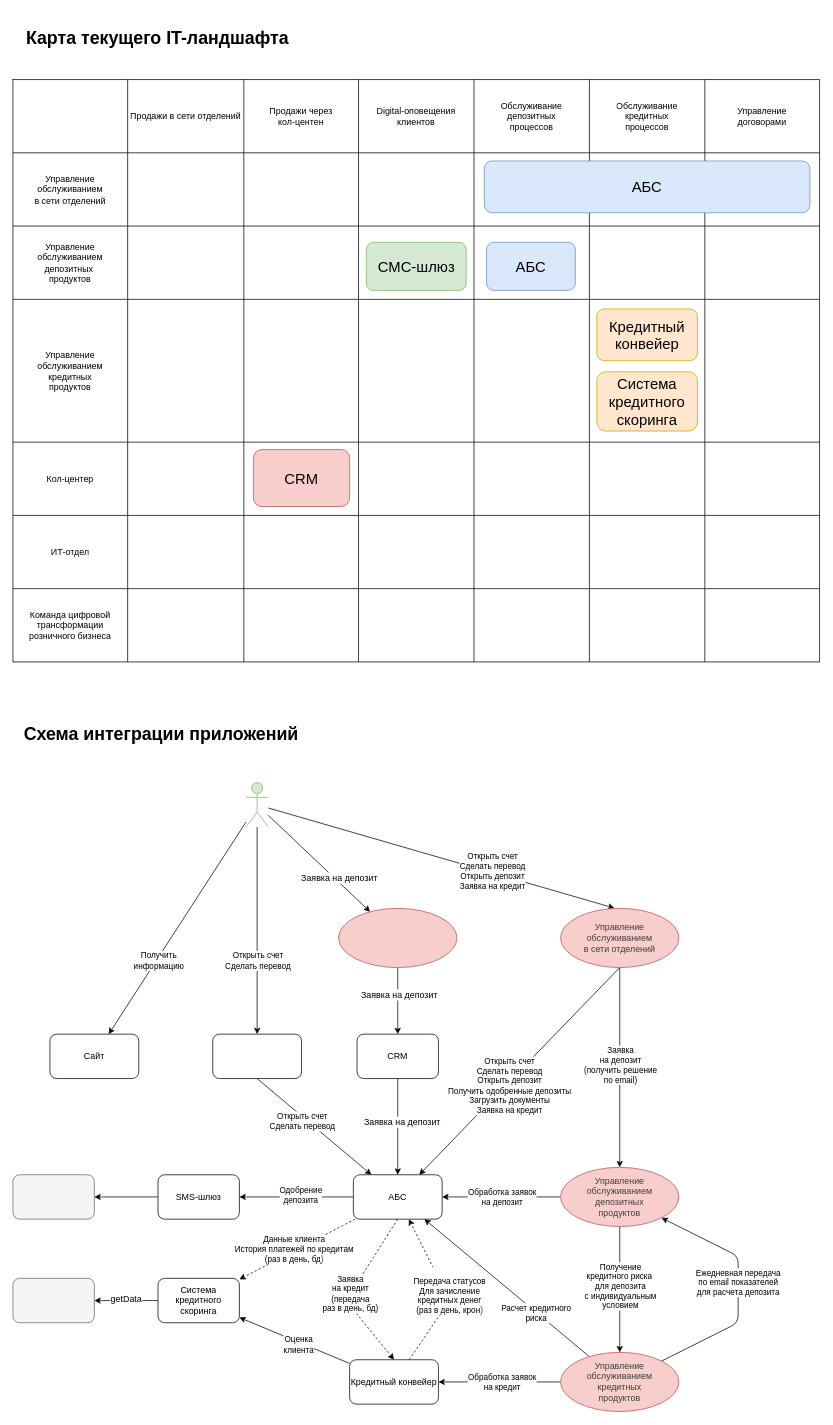
Some shapes in this 833 by 1425 pixel diagram are drawn without their labels. Here are the shapes that lost their labels. From the top down, the box of each, then its label:
(245, 782, 268, 827): Клиент
(338, 908, 457, 968): Кол-центр
(212, 1033, 302, 1079): Интернет-банк
(12, 1174, 94, 1219): Телеком-оператор
(12, 1278, 94, 1323): Бюро кредитных историй
